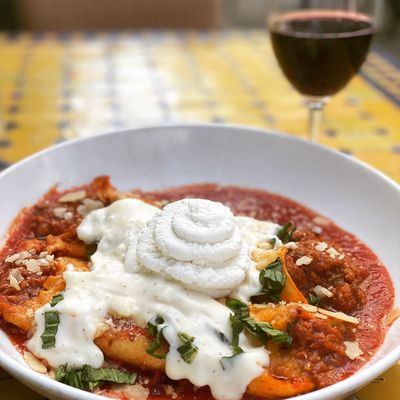curry: (0, 7, 400, 400)
sandwich: (264, 0, 378, 152)
